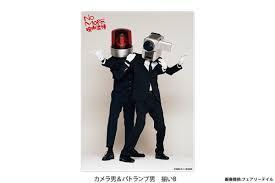no more kid: (141, 31, 176, 62)
